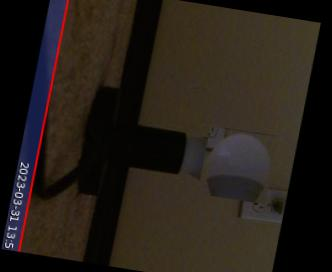Fan: (197, 124, 279, 204)
